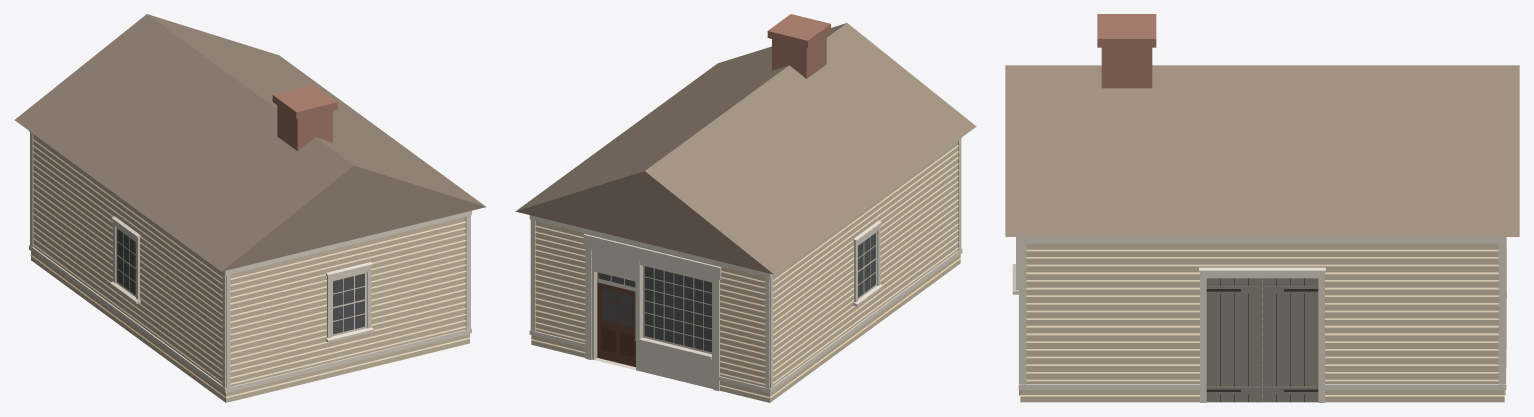
Rendered from recon_1835_core_c1_003__inferred_1835.glb.
3 renders of one model, left to right at view 1: azimuth 30°, elevation 25°; view 2: azimuth 150°, elevation 25°; view 3: azimuth 270°, elevation 25°, orthographic. The views are drawn at different scales.
Visible parts, largest first — view 1: recon_1835_core_c1_003__inferred_1835; view 2: recon_1835_core_c1_003__inferred_1835; view 3: recon_1835_core_c1_003__inferred_1835.
Boxes of the visible parts, left/top/right/bottom form: recon_1835_core_c1_003__inferred_1835: left=14, top=14, right=485, bottom=402; recon_1835_core_c1_003__inferred_1835: left=515, top=14, right=976, bottom=402; recon_1835_core_c1_003__inferred_1835: left=1005, top=14, right=1519, bottom=402.
Size of the model in its own units: 6.3 by 5.53 by 8.53.
